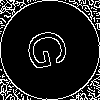G: (25, 25, 78, 72)
